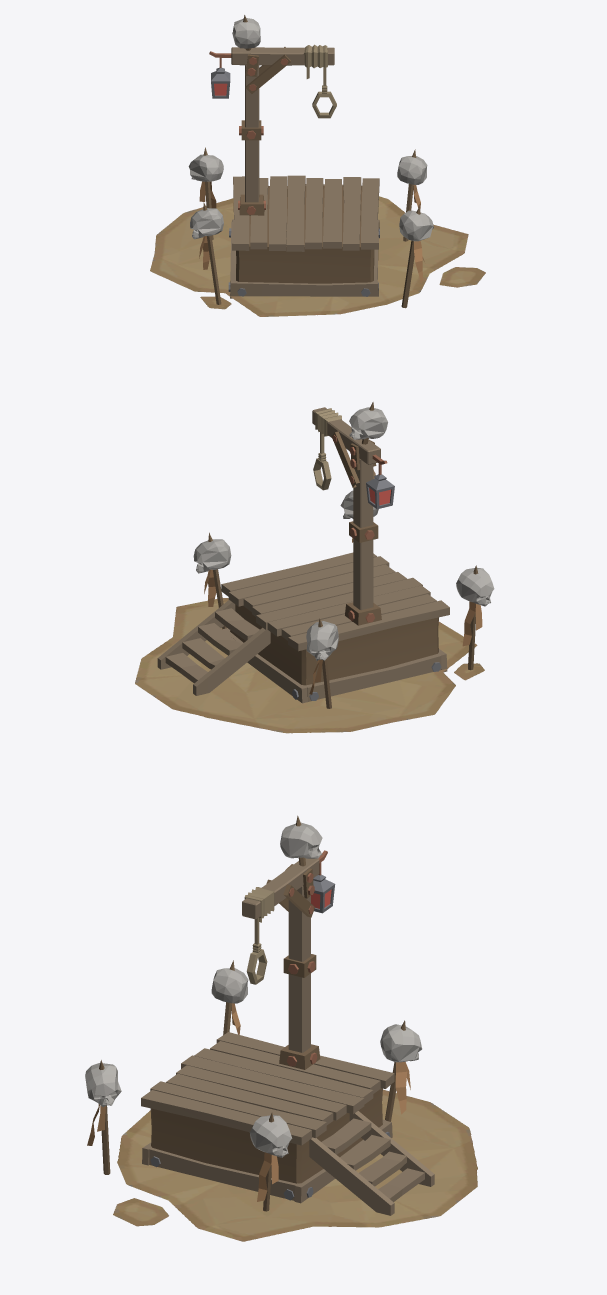
Rendered from gallows.fbx.
3 renders of one model, top to bottom at view 1: azimuth 30°, elevation 25°; view 2: azimuth 150°, elevation 25°; view 3: azimuth 270°, elevation 25°, orthographic. The views are drawn at different scales.
Visible parts, largest first — view 1: gallows, groundPlane; view 2: gallows, groundPlane; view 3: gallows, groundPlane.
Part boxes in pixels (x1,y1,x2,y2): gallows: [188, 15, 433, 308]; groundPlane: [150, 196, 485, 316]; gallows: [157, 402, 494, 708]; groundPlane: [135, 598, 484, 733]; gallows: [85, 815, 434, 1215]; groundPlane: [113, 1089, 477, 1241].
Bounding box in the file's own units: 4.3 × 2.6 × 4.3.
